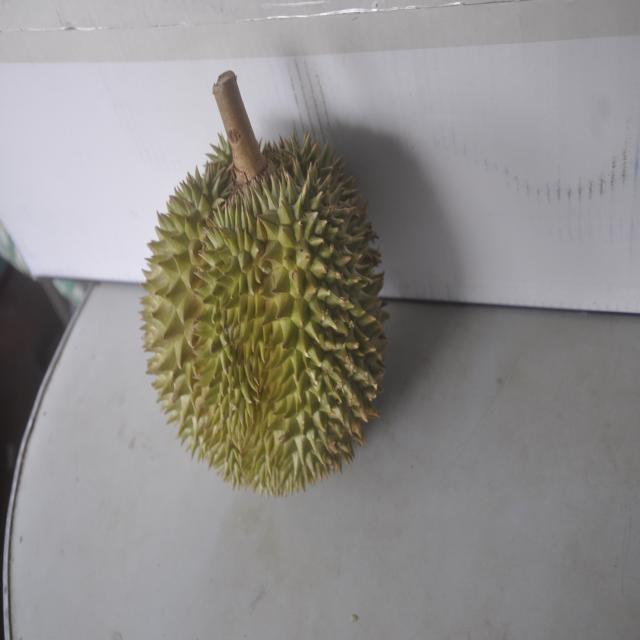mature: (143, 79, 393, 499)
